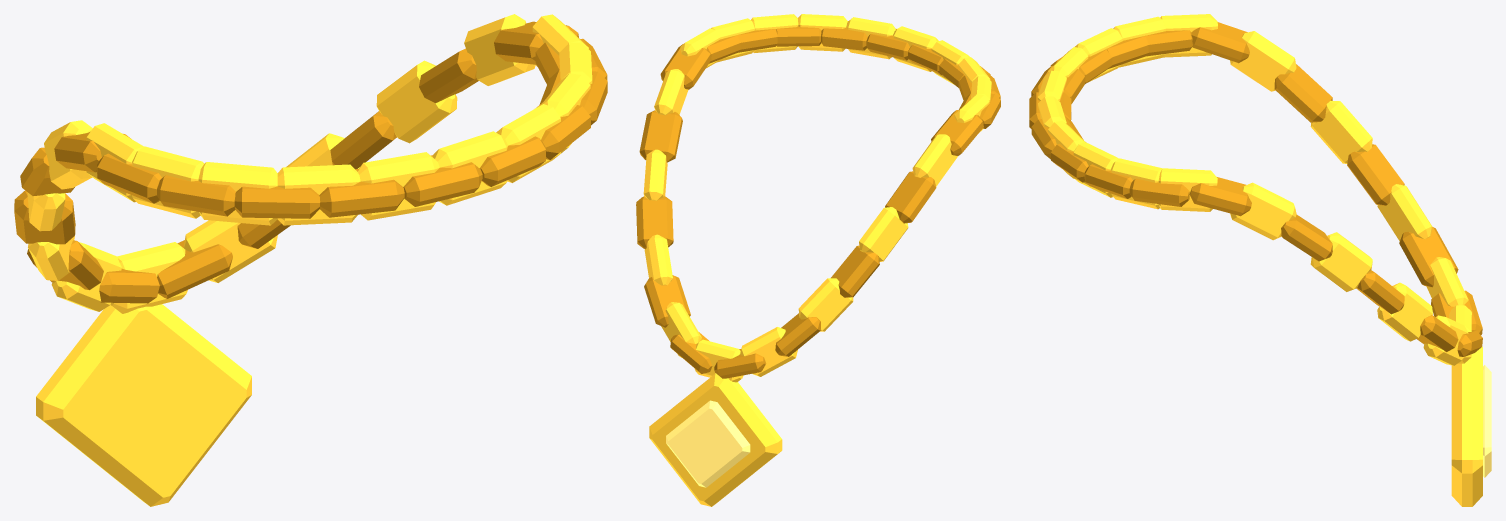
Rendered from gold_chain.glb.
3 views of the same model, side by side, from view 1: azimuth 30°, elevation 25°; view 2: azimuth 150°, elevation 25°; view 3: azimuth 270°, elevation 25° (orthographic). The views are drawn at different scales.
Visible parts, largest first — view 1: gold_chain; view 2: gold_chain; view 3: gold_chain.
Boxes of the visible parts, x1,y1,x2,y2 form: gold_chain: [14, 14, 607, 506]; gold_chain: [636, 14, 1000, 506]; gold_chain: [1029, 14, 1491, 506].
Bounding box in the file's own units: 0.235 × 0.2565 × 0.2651.
